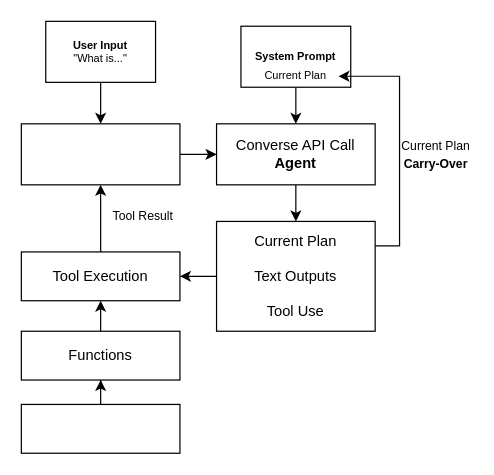
Some shapes in this 494 by 475 pixel diagram are drawn without their labels. The shapes that lost their labels are listed below. From the top down, each one's centre as x and y in pixels, then its label:
At point 100,154: "Conversation Messages List".
At point 100,428: "External Systems".
